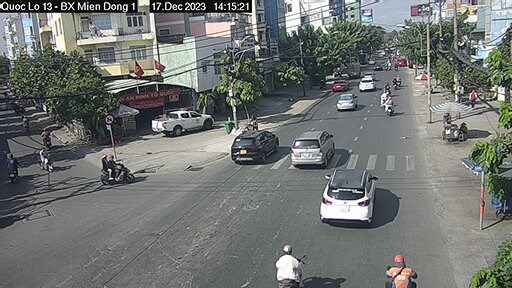car: (324, 167, 369, 222), (291, 127, 332, 165), (227, 131, 277, 162), (154, 110, 213, 135), (336, 93, 358, 112), (357, 77, 375, 93), (331, 78, 347, 89)
motorbike: (98, 153, 136, 186), (386, 99, 397, 117)
